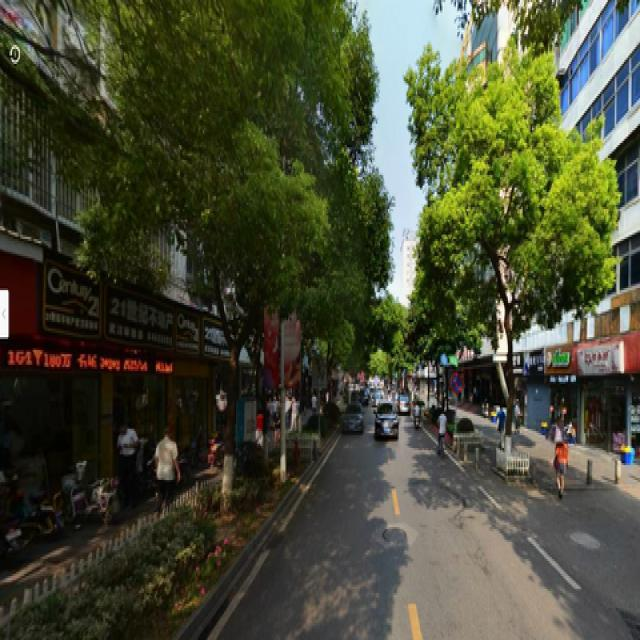cinn: (125, 13, 316, 493), (438, 43, 574, 465)
